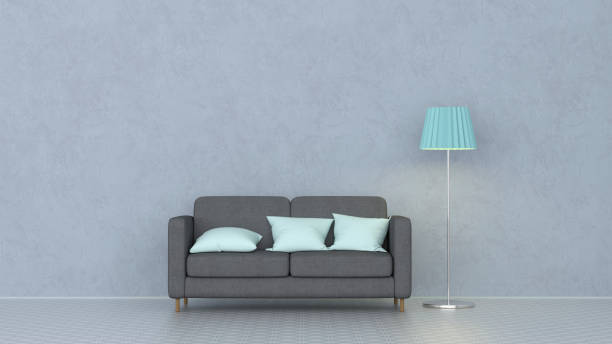floor lamp: (417, 103, 478, 311)
sofa: (166, 193, 413, 313)
